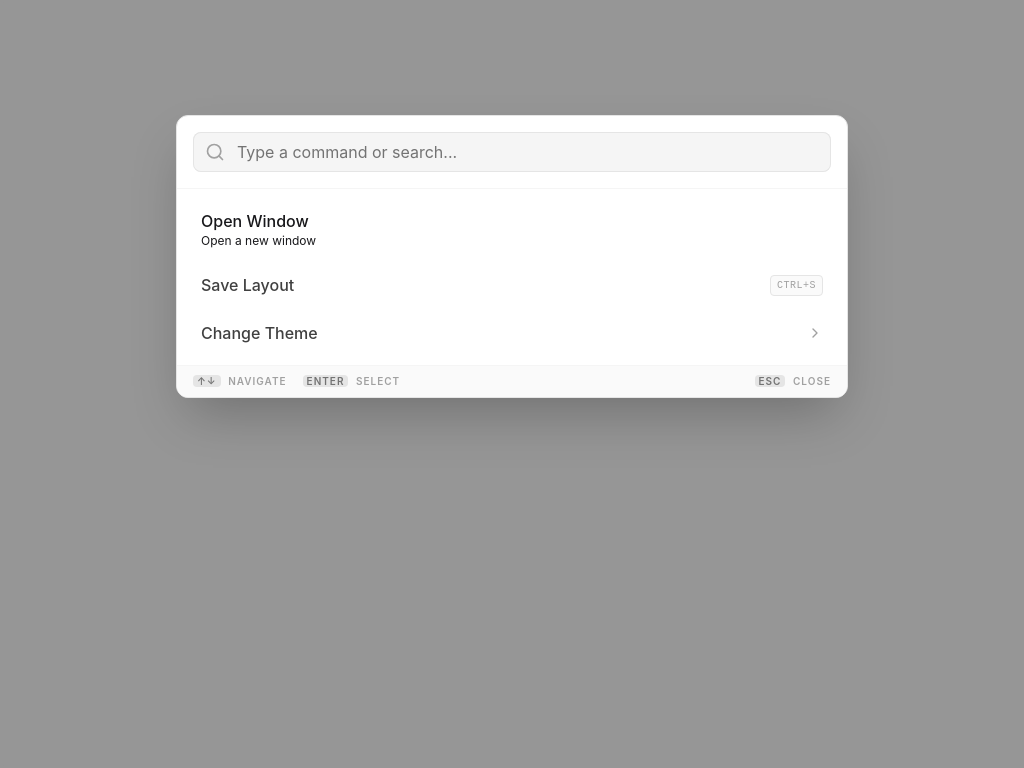
Test: CommandPalette › shows only matching commands when a query is entered
Type "save" into the field at (528, 152), box [237, 140, 819, 164]
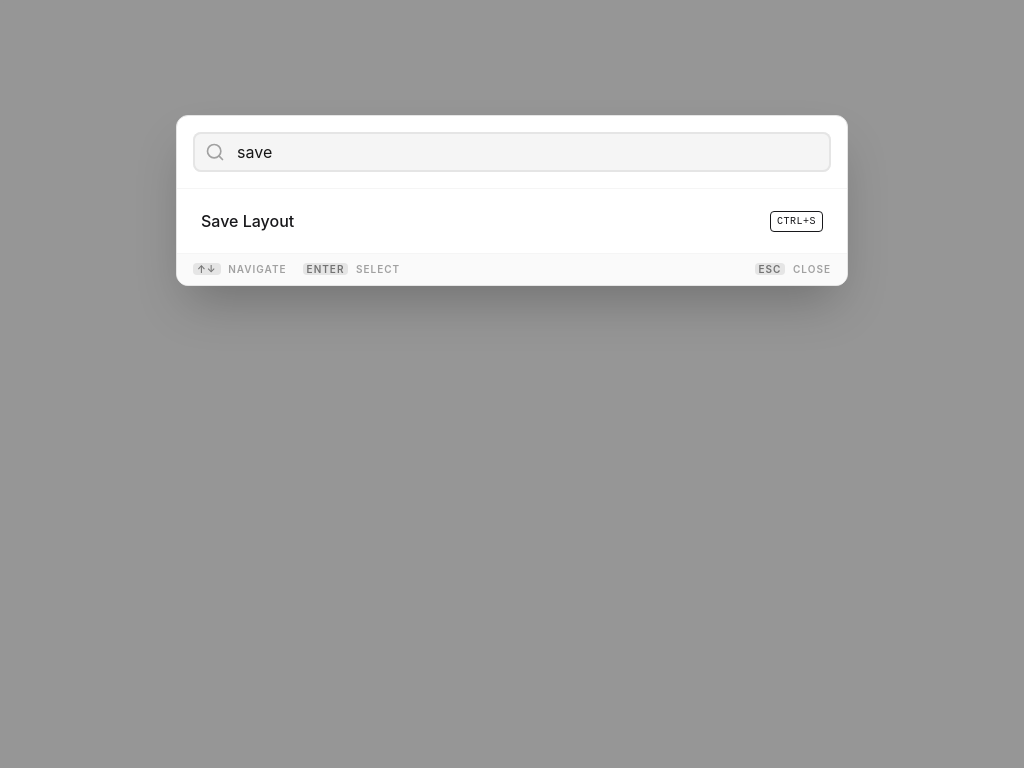
Expected: the text "Save Layout" is shown, [201, 209, 294, 233]
Expected: the button "Open Window" is gone
Expected: the button "Change Theme" is gone
